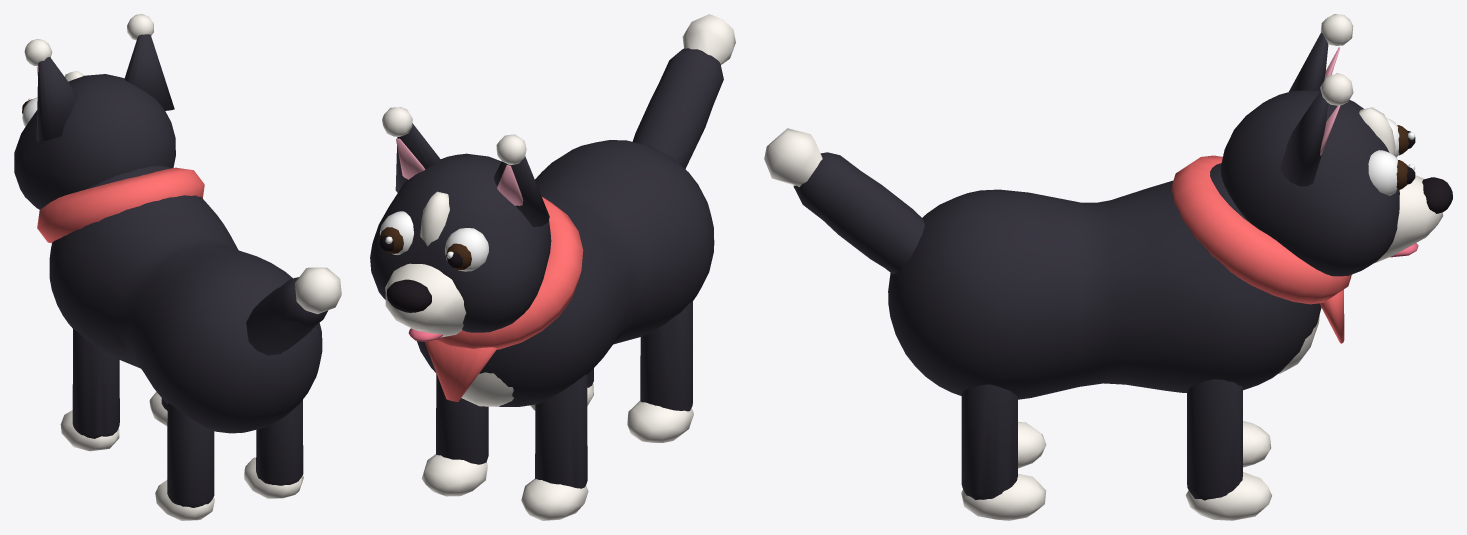
File: dog_collie.glb
The picture shows the model from 3 angles, left to right: view 1: azimuth 30°, elevation 25°; view 2: azimuth 150°, elevation 25°; view 3: azimuth 270°, elevation 25°; orthographic projection. The views are drawn at different scales.
Visible parts, largest first — view 1: Body, Head, LegFL, Tail, LegBL, LegBR, EarL, EarR, LegFR; view 2: Body, Head, Tail, LegFL, LegBL, LegFR, EarL, EarR; view 3: Body, Head, Tail, LegFR, LegBR, EarR, EarL, LegFL, LegBL.
Boxes of the visible parts, box(x1,y1,x2,y2) form: Body: box(37, 166, 322, 433); Head: box(14, 70, 175, 209); LegFL: box(60, 329, 119, 451); Tail: box(246, 267, 341, 355); LegBL: box(155, 403, 214, 520); LegBR: box(244, 400, 303, 498); EarL: box(24, 39, 77, 141); EarR: box(124, 14, 174, 110); LegFR: box(149, 392, 167, 425); Body: box(417, 140, 714, 406); Head: box(370, 153, 551, 341); Tail: box(632, 14, 735, 168); LegFL: box(521, 374, 588, 520); LegBL: box(627, 301, 693, 442); LegFR: box(421, 374, 488, 496); EarL: box(494, 134, 549, 226); EarR: box(382, 107, 440, 192); Body: box(888, 155, 1351, 399); Head: box(1220, 90, 1452, 276); Tail: box(764, 128, 924, 274); LegFR: box(1185, 379, 1271, 520); LegBR: box(961, 384, 1046, 520); EarR: box(1280, 73, 1353, 186); EarL: box(1289, 14, 1353, 91); LegFL: box(1243, 421, 1271, 467); LegBL: box(1018, 422, 1046, 468).
Bounding box in the file's own units: 0.4648 × 1.05 × 1.47.
